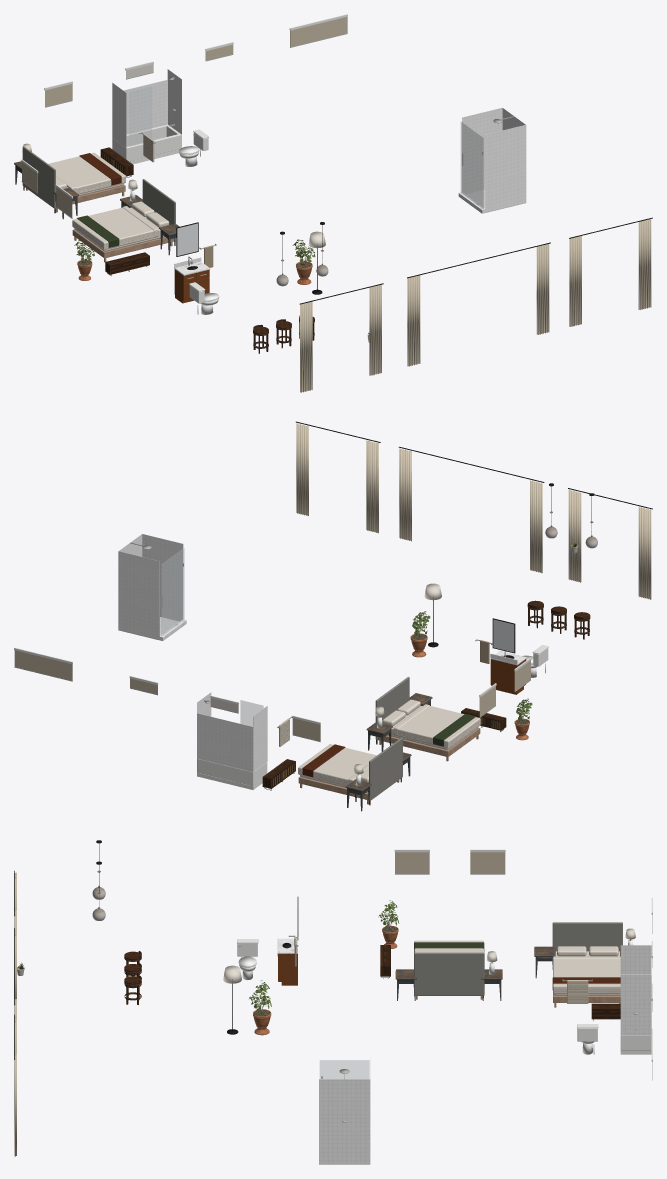
File: furniture_west.glb
3 renders of one model, top to bottom at view 1: azimuth 30°, elevation 25°; view 2: azimuth 150°, elevation 25°; view 3: azimuth 270°, elevation 25°, orthographic. The views are drawn at different scales.
Visible parts, largest first — view 1: shower tile south, shower tile north, tub tile back, duvet.002, shower glass, duvet.001, D120-80 Bi-parting curtain, D120-80 Bi-parting curtain.001, W60-50 Dining fixed curtain.001, tub glass panel, W60-50 Kitchen folding curtain.001, W60-50 Dining fixed curtain (+10 smaller); view 2: shower tile north, tub tile back, shower tile south, duvet.002, shower glass, duvet.001, headboard.001, W60-50 Kitchen folding curtain, W60-50 Kitchen folding curtain.001, D120-80 Bi-parting curtain, W60-50 Dining fixed curtain, W60-50 Dining fixed curtain.001 (+8 smaller); view 3: shower tile east, headboard.002, tub tile east, headboard.001, duvet.001, tub tile west, shower glass, W30-60 Bed 3 north roller shade, W30-60 Bed 3 south roller shade, duvet.002, carcass.002, towel (+2 smaller).
Part boxes in pixels (x1,y1,x2,y2): shower tile south: (485,125,526,211); shower tile north: (462,107,502,194); tub tile back: (123,79,167,134); duvet.002: (72,207,158,249); shower glass: (461,122,483,209); duvet.001: (48,152,125,194); D120-80 Bi-parting curtain: (407,275,420,366); D120-80 Bi-parting curtain.001: (536,244,549,334); W60-50 Dining fixed curtain.001: (638,219,651,309); tub glass panel: (129,86,151,146); W60-50 Kitchen folding curtain.001: (369,284,381,375); W60-50 Dining fixed curtain: (569,236,581,326); shower tile north: (118,551,159,639); tub tile back: (197,713,253,771); shower tile south: (142,534,183,621); duvet.002: (394,706,480,748); shower glass: (161,548,184,636); duvet.001: (298,744,376,785); headboard.001: (369,737,402,800); W60-50 Kitchen folding curtain: (638,506,651,599); W60-50 Kitchen folding curtain.001: (568,489,581,582); D120-80 Bi-parting curtain: (530,480,542,573); W60-50 Dining fixed curtain: (366,440,378,533); W60-50 Dining fixed curtain.001: (296,423,308,515); shower tile east: (319,1079,370,1163); headboard.002: (414,952,484,995); tub tile east: (620,974,651,1035); headboard.001: (552,922,622,951); duvet.001: (553,959,620,993); tub tile west: (620,945,651,974); shower glass: (320,1060,369,1078); W30-60 Bed 3 north roller shade: (470,852,505,873); W30-60 Bed 3 south roller shade: (395,852,429,873); duvet.002: (414,940,483,952); carcass.002: (278,954,297,981); towel: (567,980,588,1003).
Size of the model in its own units: 12.88 by 3.73 by 15.46.
33 materials, 23 textured.
